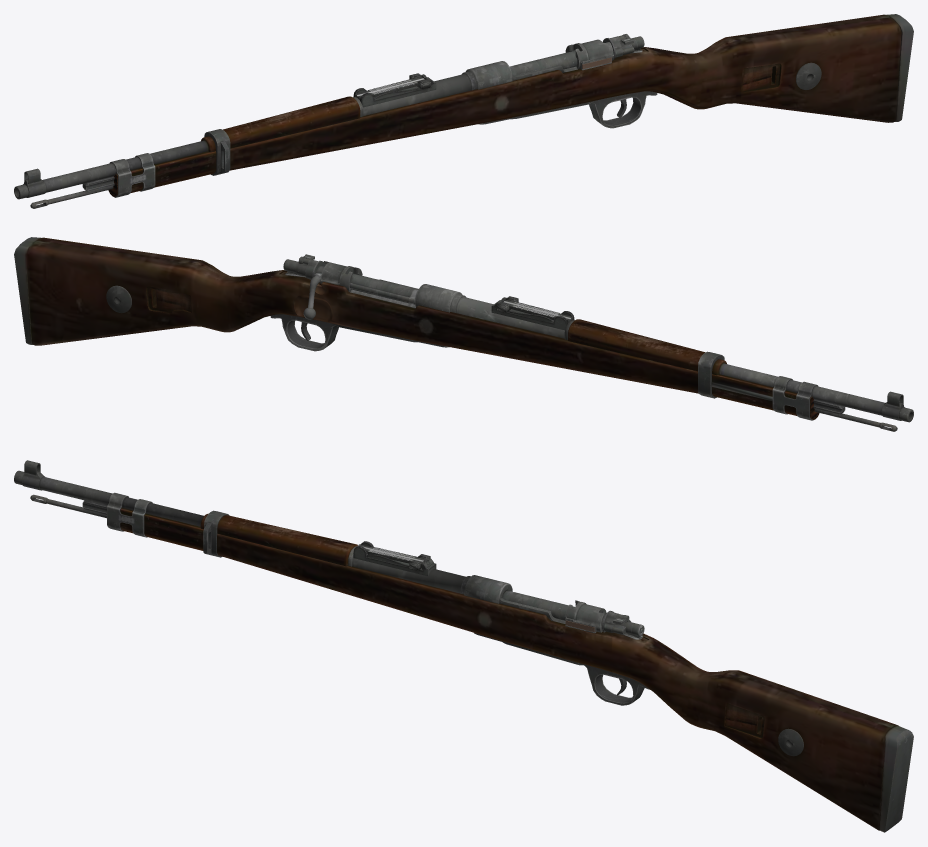
File: sniper.glb
The picture shows the model from 3 angles, top to bottom: view 1: azimuth 30°, elevation 25°; view 2: azimuth 150°, elevation 25°; view 3: azimuth 330°, elevation 25°; orthographic projection.
Parts seen in each view (by area): view 1: b_low, a_low, d_low, c_low, e_low; view 2: b_low, a_low, d_low, c_low, e_low; view 3: b_low, a_low, d_low, c_low, e_low.
Boxes of the visible parts, <box> form: b_low: <box>108,14,913,196</box>; a_low: <box>14,91,657,208</box>; d_low: <box>353,39,642,116</box>; c_low: <box>509,34,644,75</box>; e_low: <box>353,73,436,107</box>; b_low: <box>14,237,819,419</box>; a_low: <box>270,314,913,431</box>; d_low: <box>285,261,574,339</box>; c_low: <box>283,254,418,319</box>; e_low: <box>491,296,574,330</box>; b_low: <box>120,507,913,832</box>; a_low: <box>14,460,650,705</box>; d_low: <box>348,546,642,639</box>; c_low: <box>502,590,644,637</box>; e_low: <box>353,541,436,575</box>.
Size of what is drawn, in the model's own units: 2 by 0.3411 by 0.1091.
Materials: 5 (5 with a texture image).
